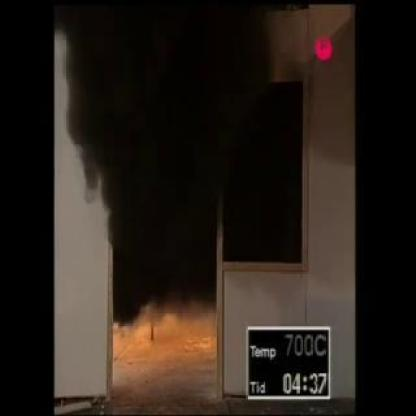Smoke: (68, 17, 297, 279)
